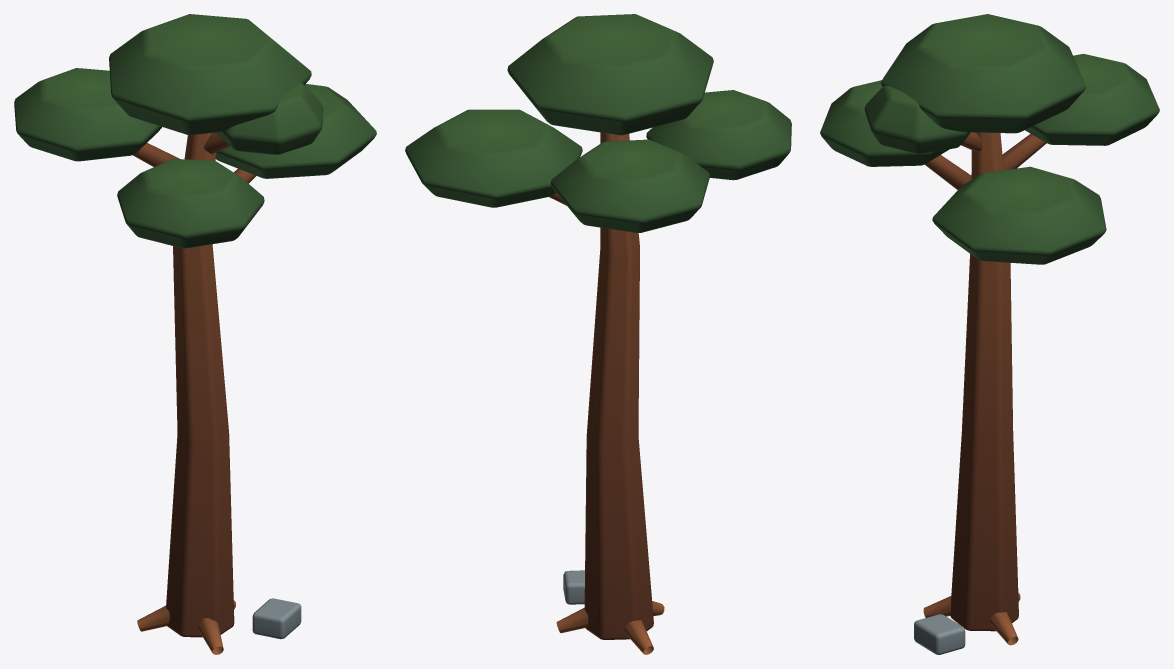
The model's file is scots_pine.glb.
3 renders of one model, left to right at view 1: azimuth 30°, elevation 25°; view 2: azimuth 150°, elevation 25°; view 3: azimuth 270°, elevation 25°, orthographic.
Parts seen in each view (by area): view 1: scots_pine; view 2: scots_pine; view 3: scots_pine.
Part boxes in pixels (<box>): scots_pine: <box>14,14,376,654</box>; scots_pine: <box>405,14,791,654</box>; scots_pine: <box>820,14,1159,654</box>.
Size of the model in its own units: 2.4 by 4.35 by 2.27.
